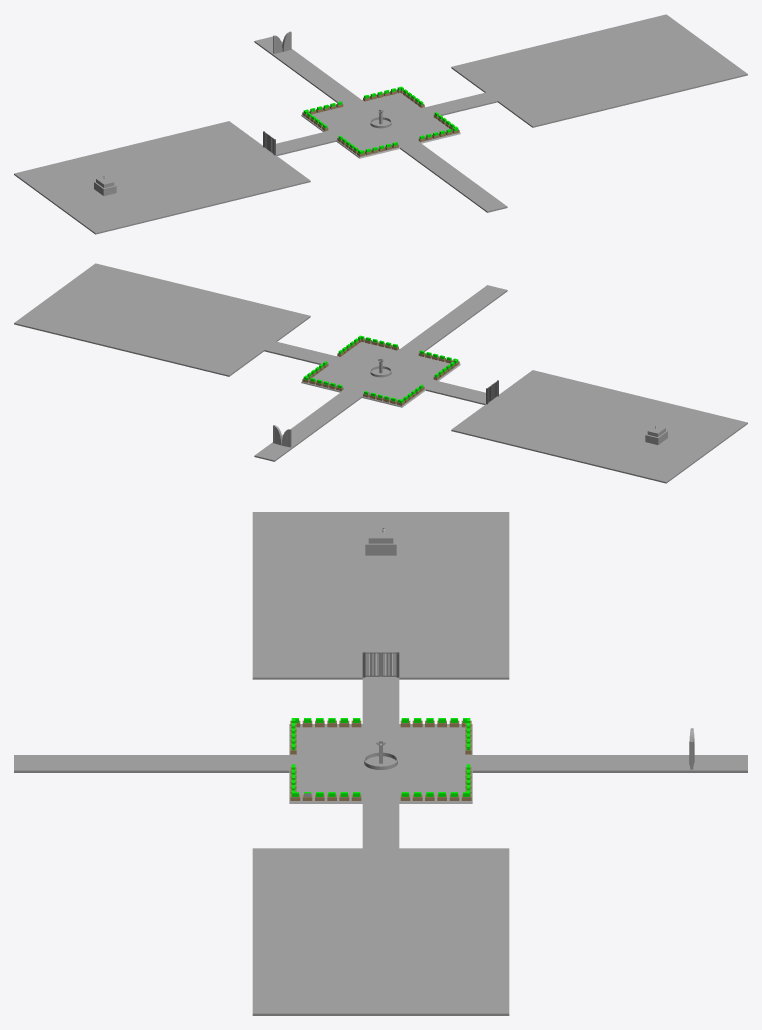
Rendered from brainworld.fbx.
The picture shows the model from 3 angles, top to bottom: view 1: azimuth 30°, elevation 25°; view 2: azimuth 150°, elevation 25°; view 3: azimuth 270°, elevation 25°; orthographic projection. The views are drawn at different scales.
Visible parts, largest first — view 1: Temmie_Land, Forbidden_Zone, Main_Square, Walk_Way_to_Castle, Walk_Way_Entrance, Temmie_Land_Walkway, Forbidden_Zone_Walkway; view 2: Temmie_Land, Forbidden_Zone, Main_Square, Walk_Way_to_Castle, Walk_Way_Entrance, Temmie_Land_Walkway, Forbidden_Zone_Walkway; view 3: Temmie_Land, Forbidden_Zone, Main_Square, Walk_Way_to_Castle, Walk_Way_Entrance, Temmie_Land_Walkway, Forbidden_Zone_Walkway.
Boxes of the visible parts, x1,y1,x2,y2 form: Temmie_Land: [451, 14, 747, 127]; Forbidden_Zone: [14, 121, 310, 234]; Main_Square: [301, 92, 460, 158]; Walk_Way_to_Castle: [400, 142, 507, 212]; Walk_Way_Entrance: [254, 36, 361, 104]; Temmie_Land_Walkway: [426, 92, 497, 115]; Forbidden_Zone_Walkway: [276, 132, 336, 155]; Temmie_Land: [14, 263, 310, 376]; Forbidden_Zone: [451, 370, 747, 483]; Main_Square: [301, 341, 460, 407]; Walk_Way_to_Castle: [400, 285, 507, 353]; Walk_Way_Entrance: [254, 391, 361, 461]; Temmie_Land_Walkway: [264, 341, 335, 364]; Forbidden_Zone_Walkway: [425, 381, 485, 404]; Temmie_Land: [252, 848, 509, 1015]; Forbidden_Zone: [252, 512, 509, 679]; Main_Square: [289, 724, 472, 803]; Walk_Way_to_Castle: [14, 755, 289, 772]; Walk_Way_Entrance: [472, 755, 747, 772]; Temmie_Land_Walkway: [362, 801, 399, 848]; Forbidden_Zone_Walkway: [362, 677, 399, 723].
Size of what is drawn, in the model's own units: 485 by 13.5 by 300.
